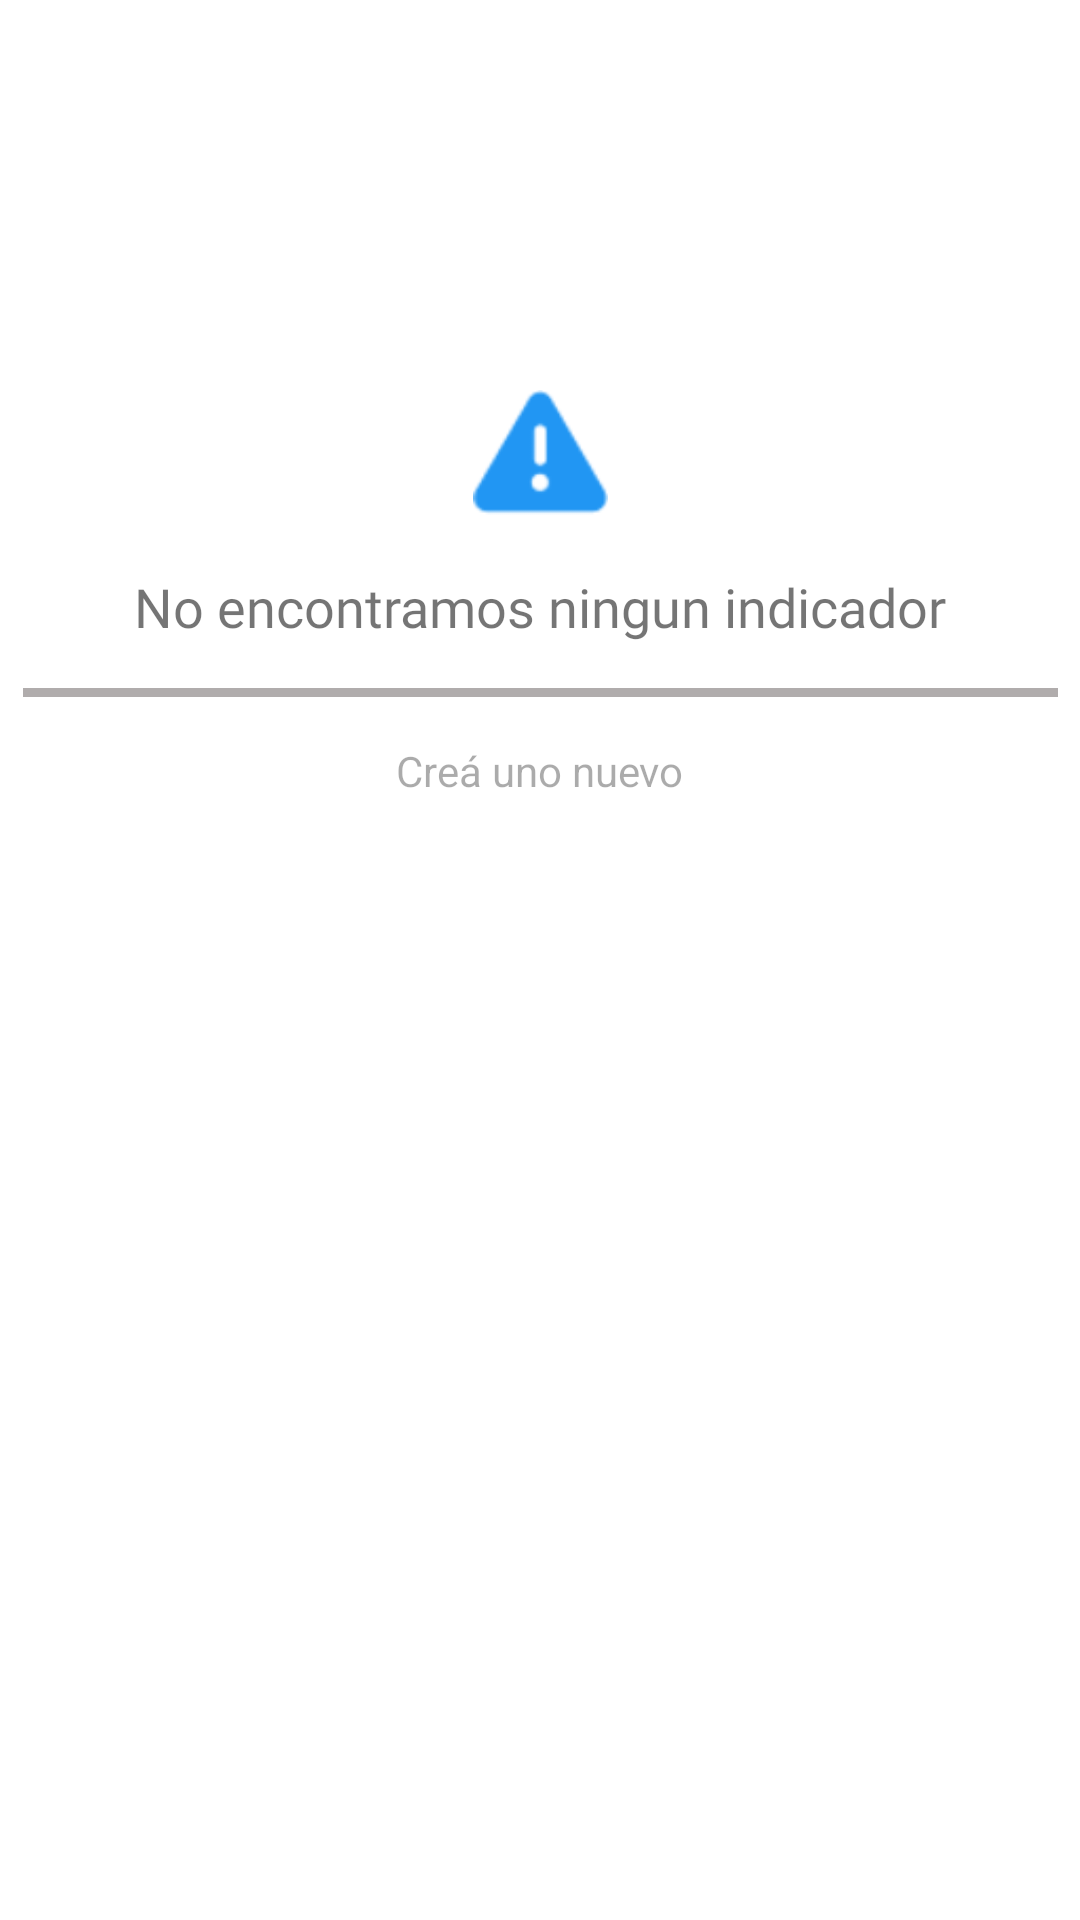

Named icons in this screenshot (1080x1920) and their centers, (x,y):
alert: (540,451)
